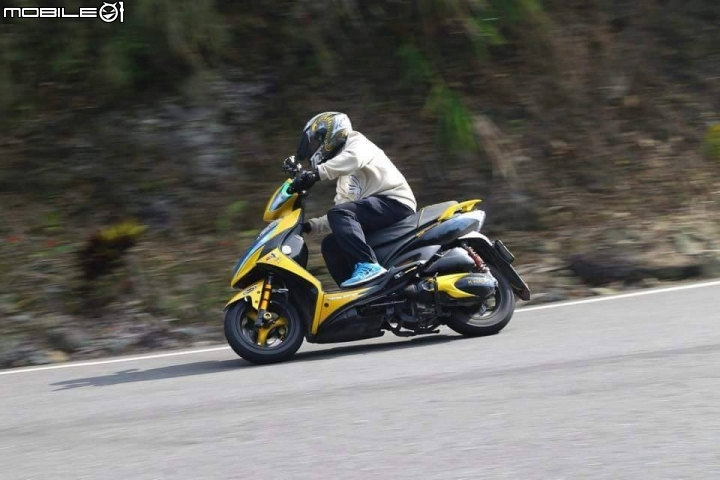helmet: (296, 111, 360, 159)
